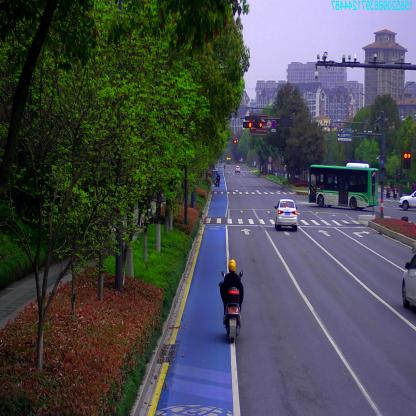traffic-light: (255, 121, 263, 128), (244, 121, 252, 126)
